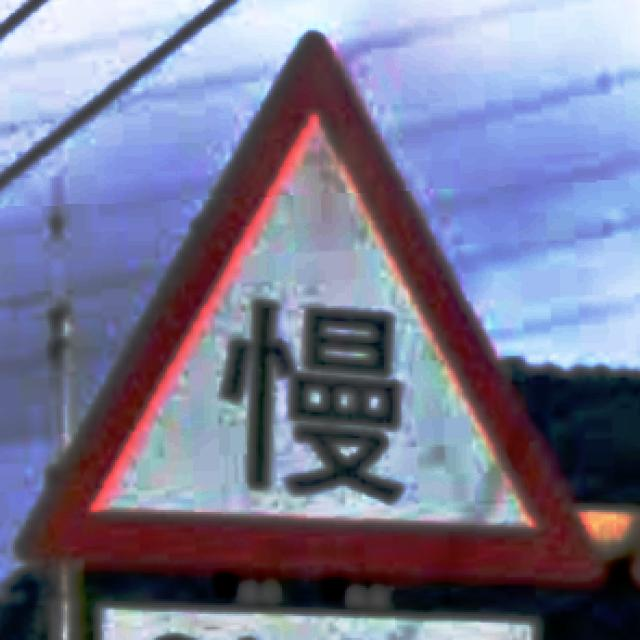slow: (17, 33, 607, 586)
